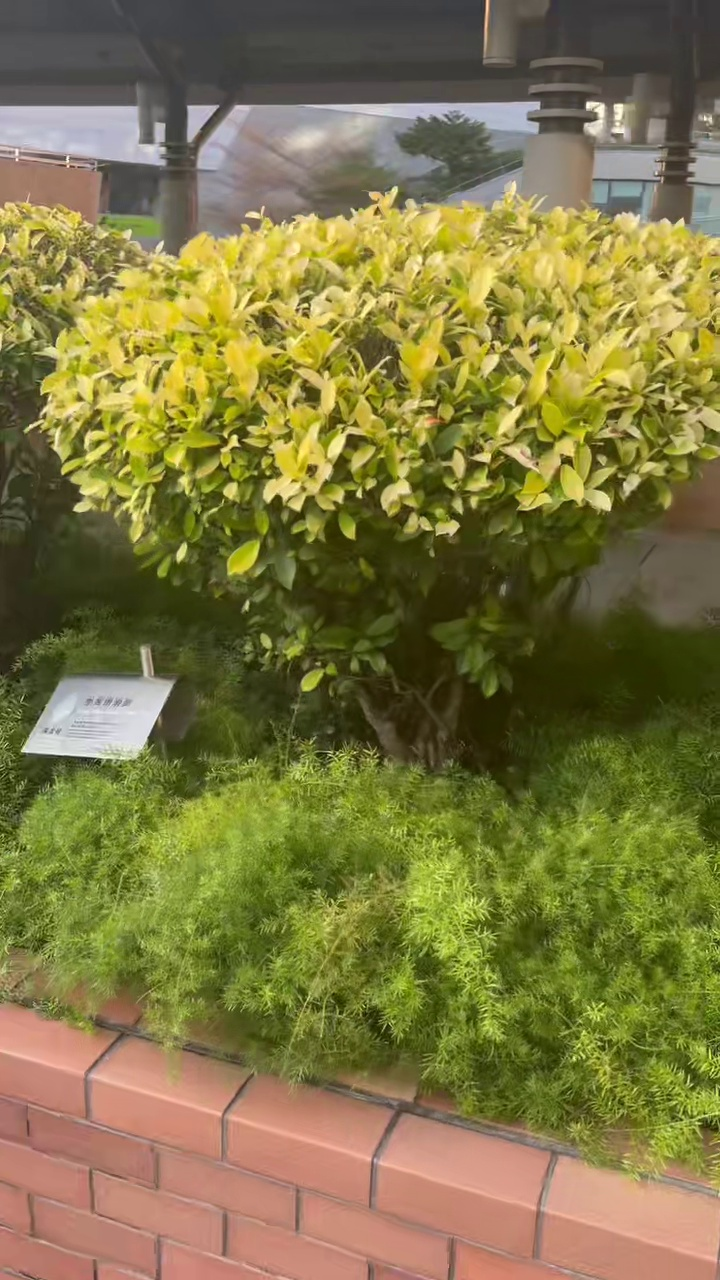Golden-leaves Fig: (42, 194, 719, 762)
